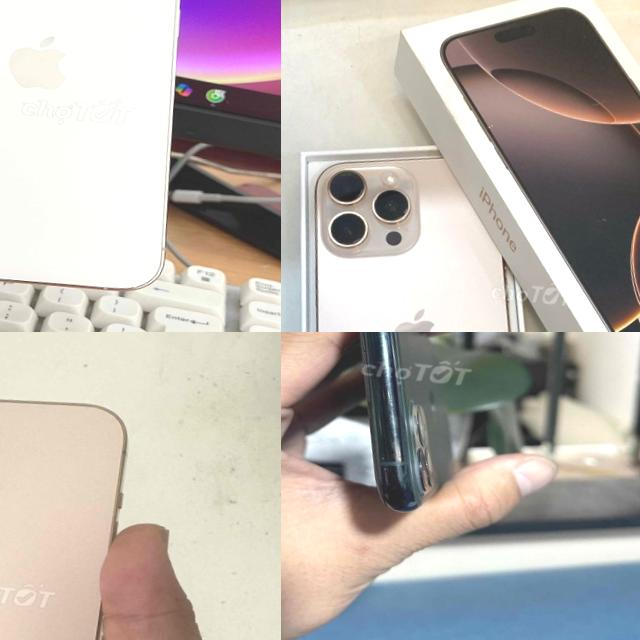scratch: (374, 451, 436, 513)
